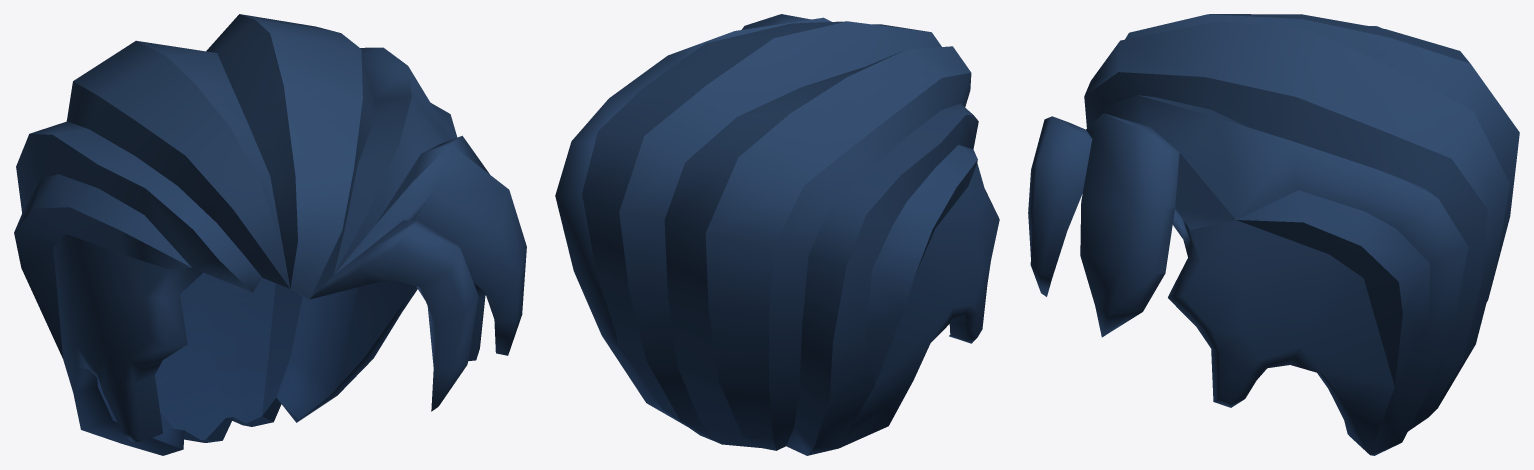
Rendered from Hair_Blue_8.fbx.
3 renders of one model, left to right at view 1: azimuth 30°, elevation 25°; view 2: azimuth 150°, elevation 25°; view 3: azimuth 270°, elevation 25°, orthographic. The views are drawn at different scales.
Parts seen in each view (by area): view 1: Hair_Blue_8; view 2: Hair_Blue_8; view 3: Hair_Blue_8.
Boxes of the visible parts, left/top/right/bottom form: Hair_Blue_8: left=14, top=14, right=526, bottom=455; Hair_Blue_8: left=555, top=14, right=999, bottom=455; Hair_Blue_8: left=1028, top=14, right=1519, bottom=455.
Bounding box in the file's own units: 54.98 × 58.06 × 64.93.
